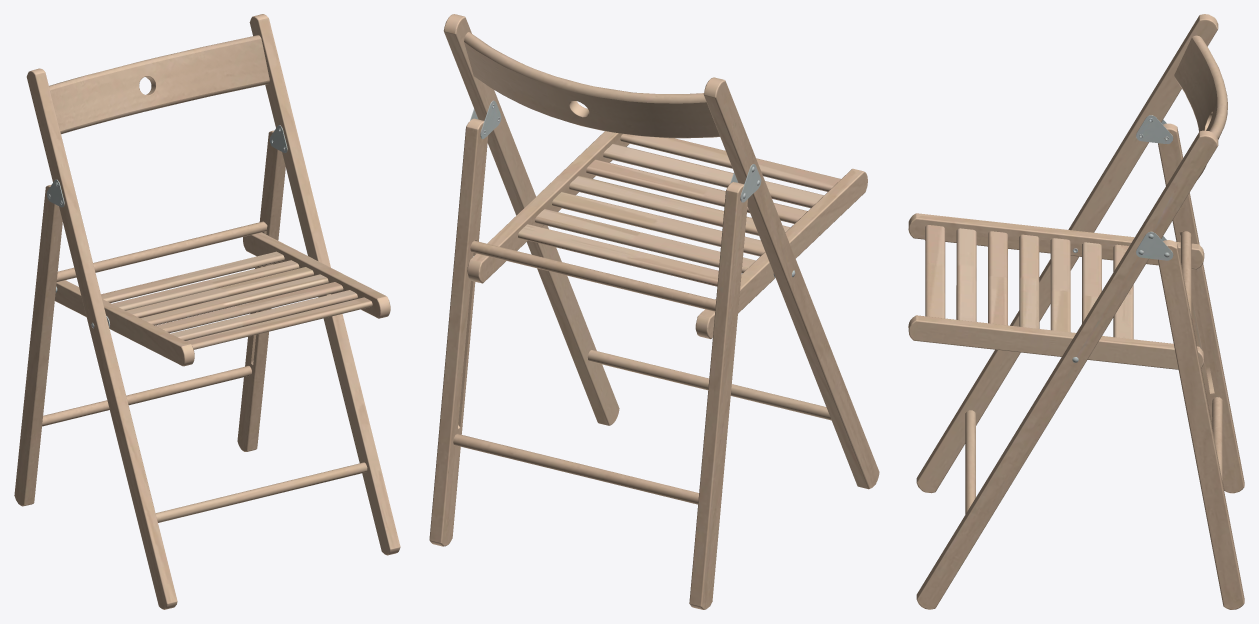
Rendered from 17 - FRÖSVI - 折疊椅, 櫸木 IKEA 線上購物.glb.
The picture shows the model from 3 angles, left to right: view 1: azimuth 30°, elevation 25°; view 2: azimuth 150°, elevation 25°; view 3: azimuth 270°, elevation 25°; orthographic projection. The views are drawn at different scales.
Visible parts, largest first — view 1: model; view 2: model; view 3: model.
Boxes of the visible parts, <box> form: model: <box>14,14,400,609</box>; model: <box>429,14,879,609</box>; model: <box>908,14,1244,609</box>.
Size of the model in its own units: 0.436 by 0.7796 by 0.5.
1 material, 1 textured.
